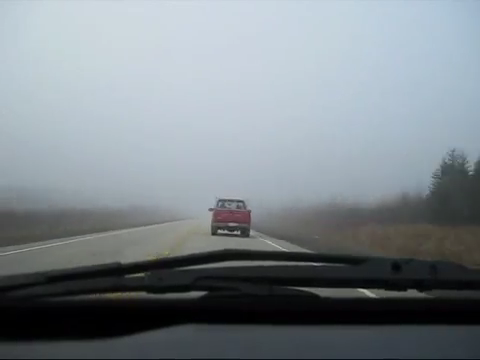car: (208, 197, 251, 237)
